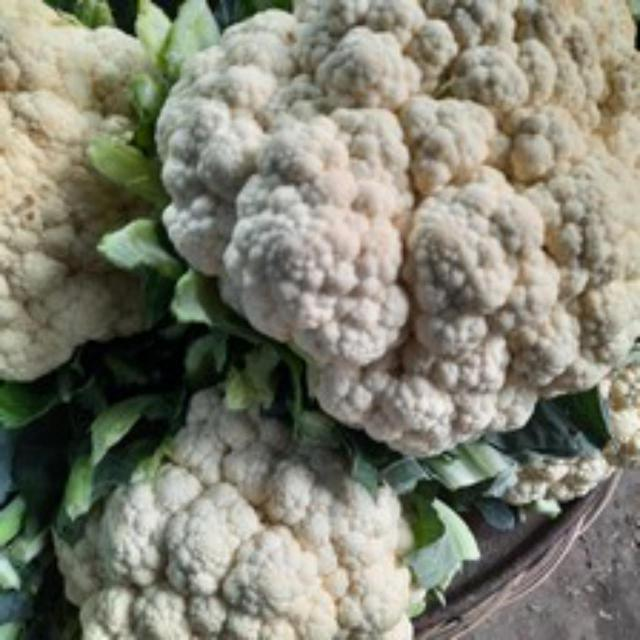cauliflower: (151, 0, 637, 462)
